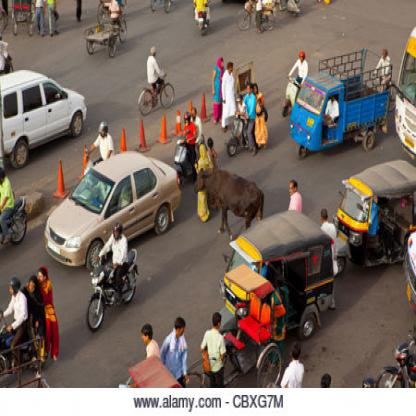car: (44, 150, 181, 269), (1, 70, 87, 165)
motorcycle: (2, 271, 57, 372), (86, 223, 136, 333), (225, 84, 269, 158), (136, 45, 176, 115), (175, 107, 204, 182), (282, 49, 306, 116)
truck: (290, 48, 388, 158)
